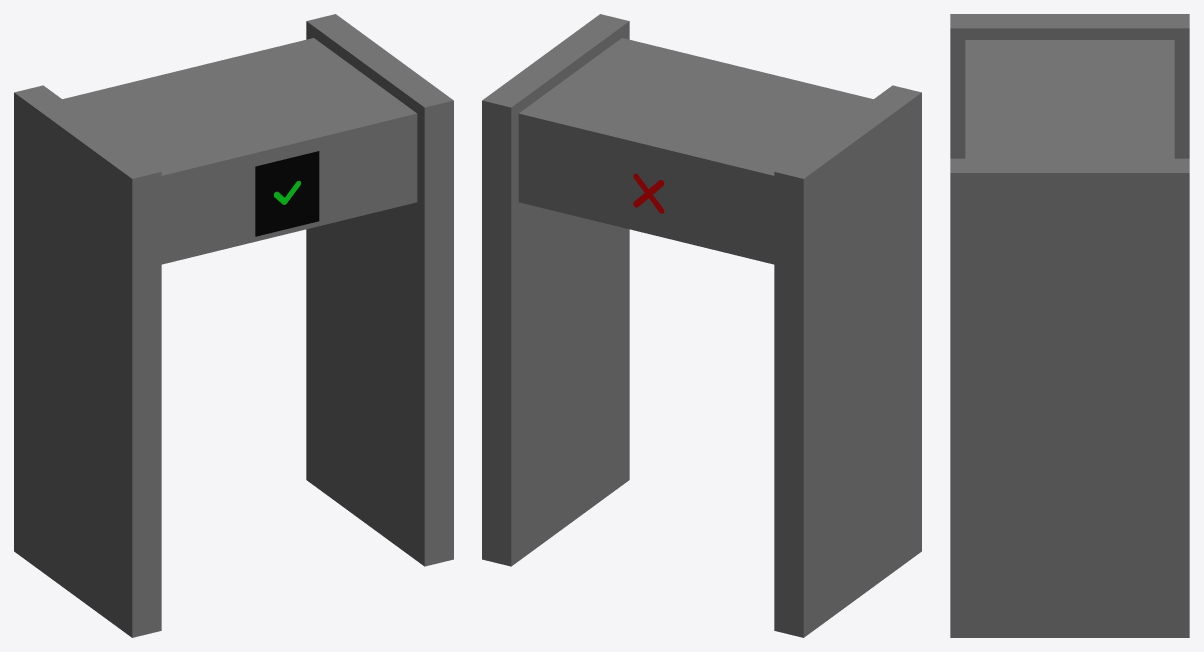
File: oneway_gate.fbx
3 renders of one model, left to right at view 1: azimuth 30°, elevation 25°; view 2: azimuth 150°, elevation 25°; view 3: azimuth 270°, elevation 25°, orthographic.
Visible parts, largest first — view 1: ゲート; view 2: ゲート; view 3: ゲート.
Part boxes in pixels (x1=…): ゲート: x1=14, y1=14, x2=453, y2=637; ゲート: x1=482, y1=14, x2=921, y2=637; ゲート: x1=950, y1=14, x2=1189, y2=637.
Bounding box in the file's own units: 110 × 150 × 70.
